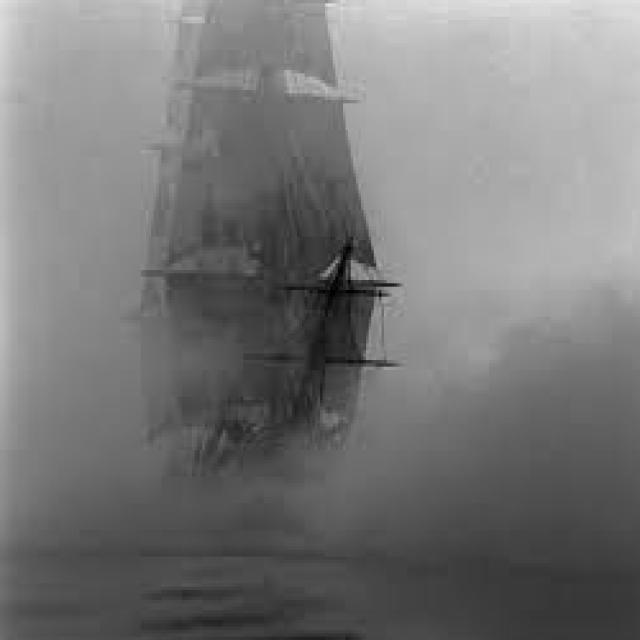fishing boat: (126, 11, 406, 568)
